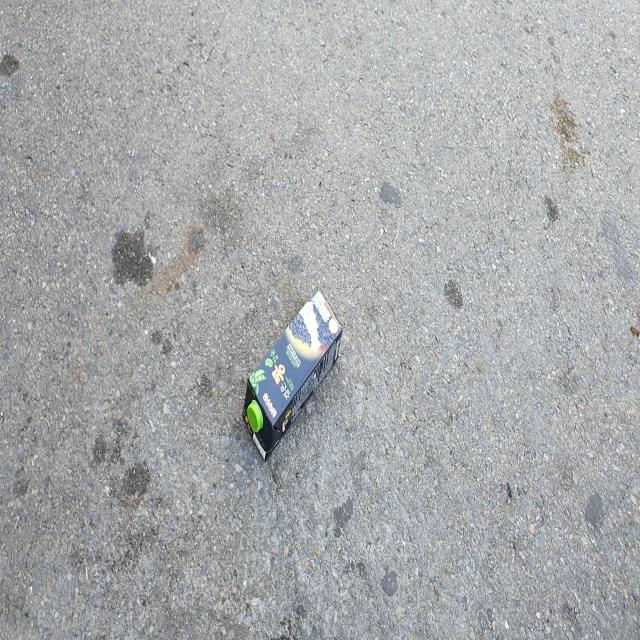paperpack: (244, 290, 342, 459)
